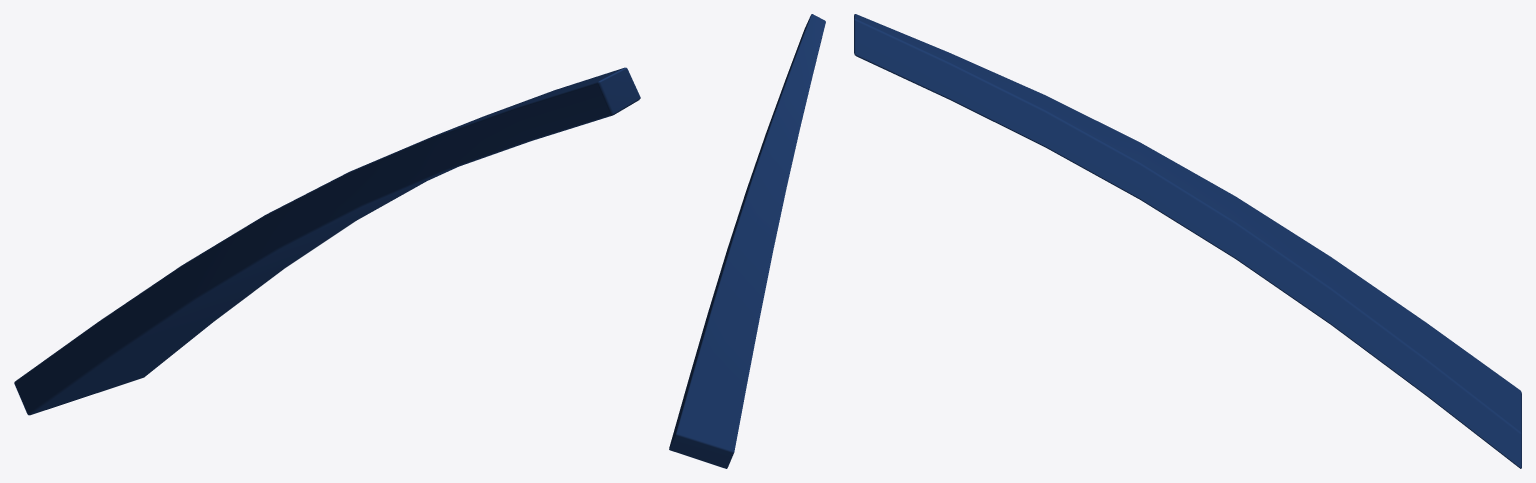
The model's file is GEO_A_Pillar_R.glb.
3 views of the same model, side by side, from view 1: azimuth 30°, elevation 25°; view 2: azimuth 150°, elevation 25°; view 3: azimuth 270°, elevation 25° (orthographic). The views are drawn at different scales.
Parts seen in each view (by area): view 1: GEO_A_Pillar_R; view 2: GEO_A_Pillar_R; view 3: GEO_A_Pillar_R.
Part boxes in pixels (x1,y1,x2,y2): GEO_A_Pillar_R: (14,67,640,415); GEO_A_Pillar_R: (669,14,825,468); GEO_A_Pillar_R: (854,14,1521,468).
Size of the model in its own units: 0.2475 by 0.5625 by 0.68.
